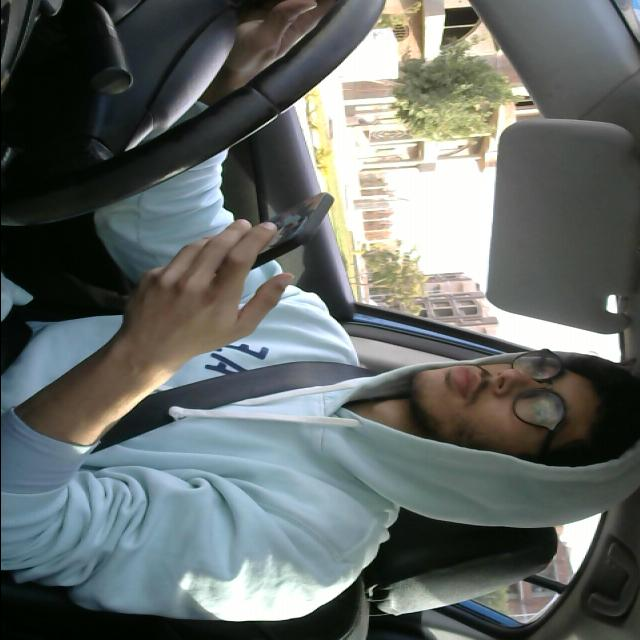mobile use: (177, 194, 341, 286)
